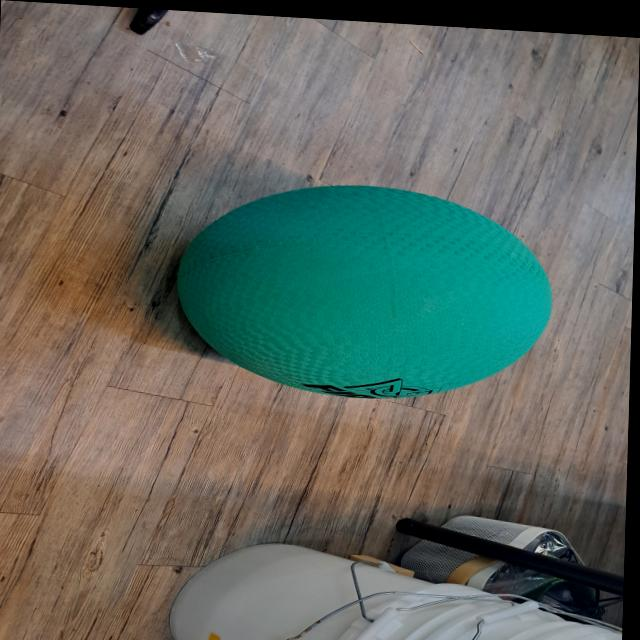ALGAE: (170, 173, 558, 411)
